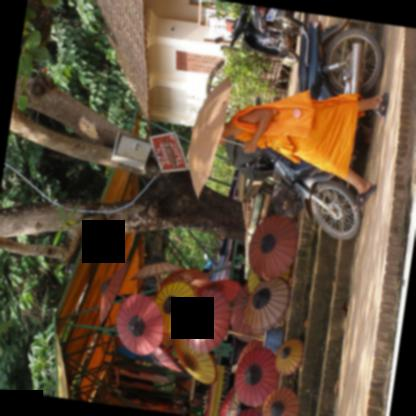handbag: (231, 87, 315, 140)
